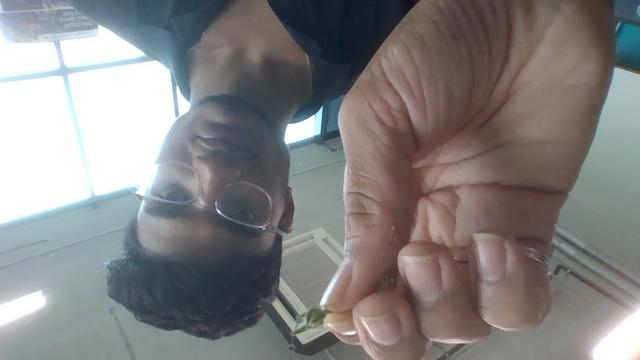Fruit Bud: (305, 307, 326, 328)
